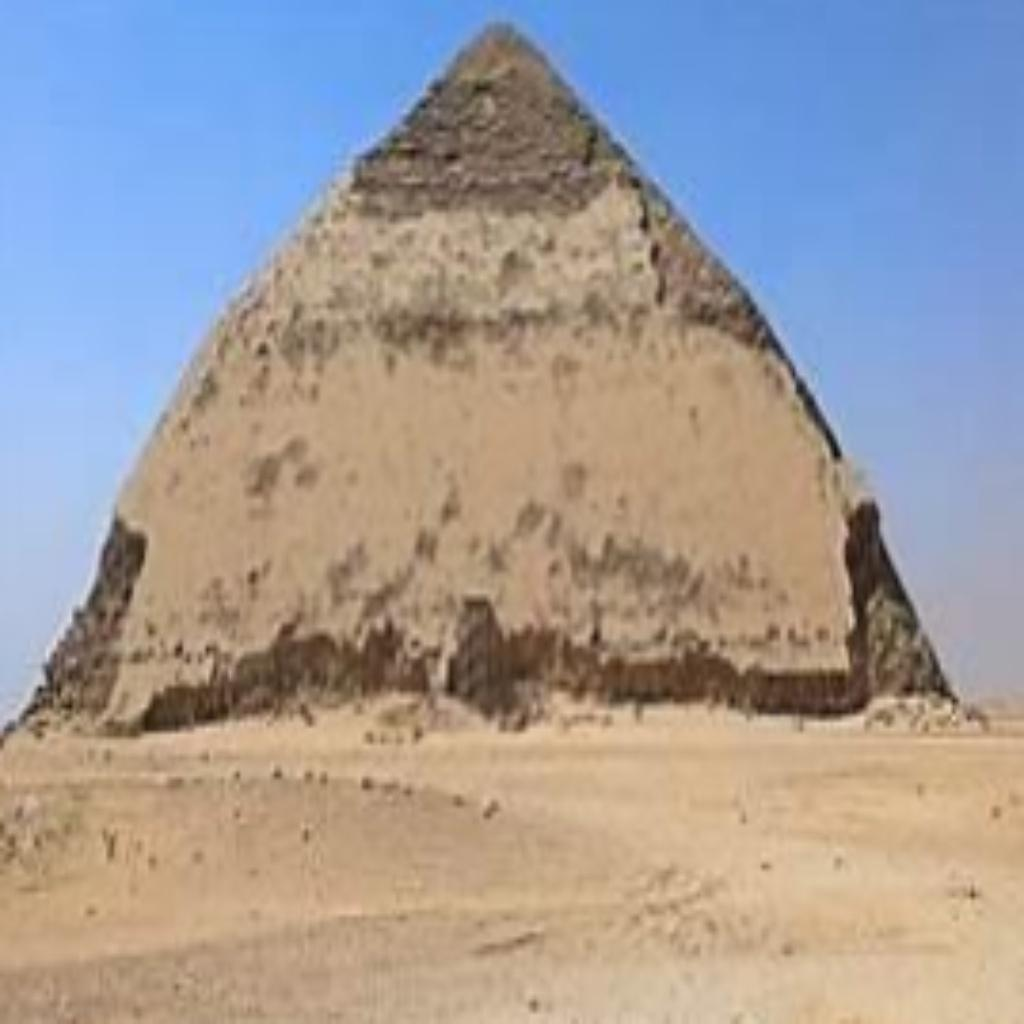Bent Pyramid of King Sneferu: (0, 0, 986, 738)
